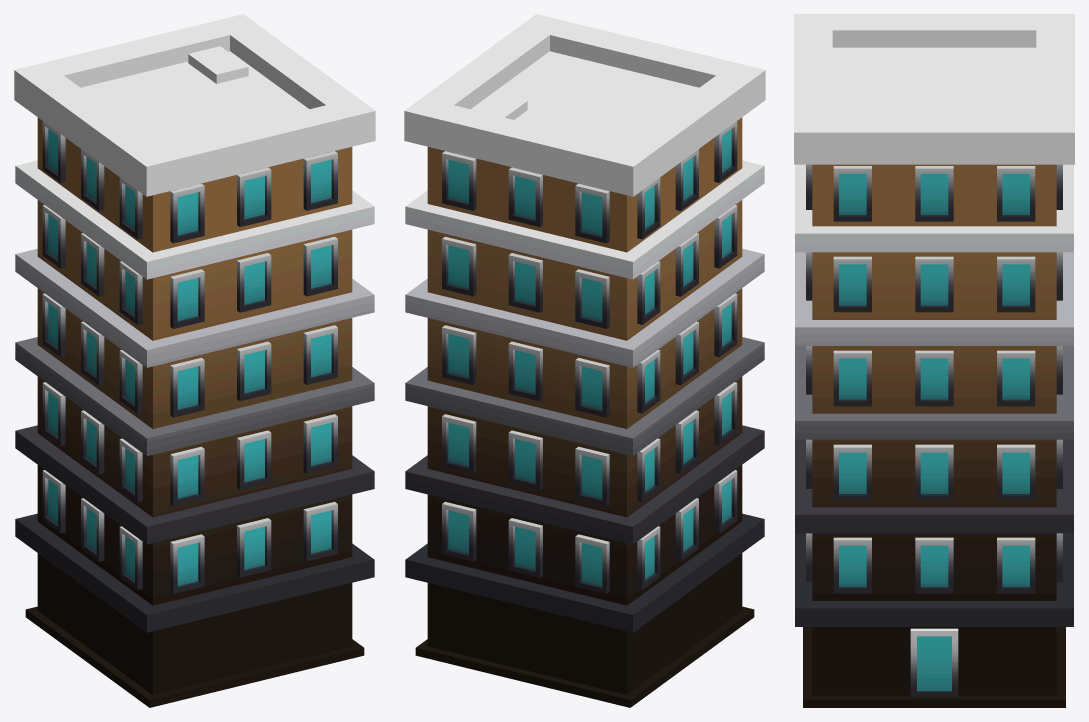
The model's file is SM_Building_Tall_1.fbx.
3 renders of one model, left to right at view 1: azimuth 30°, elevation 25°; view 2: azimuth 150°, elevation 25°; view 3: azimuth 270°, elevation 25°, orthographic. The views are drawn at different scales.
Visible parts, largest first — view 1: Building_Tall_1; view 2: Building_Tall_1; view 3: Building_Tall_1.
Boxes of the visible parts, left/top/right/bottom form: Building_Tall_1: left=14, top=14, right=375, bottom=707; Building_Tall_1: left=404, top=14, right=765, bottom=707; Building_Tall_1: left=794, top=14, right=1074, bottom=707.
Size of the model in its own units: 9.12 by 20.74 by 9.12.
